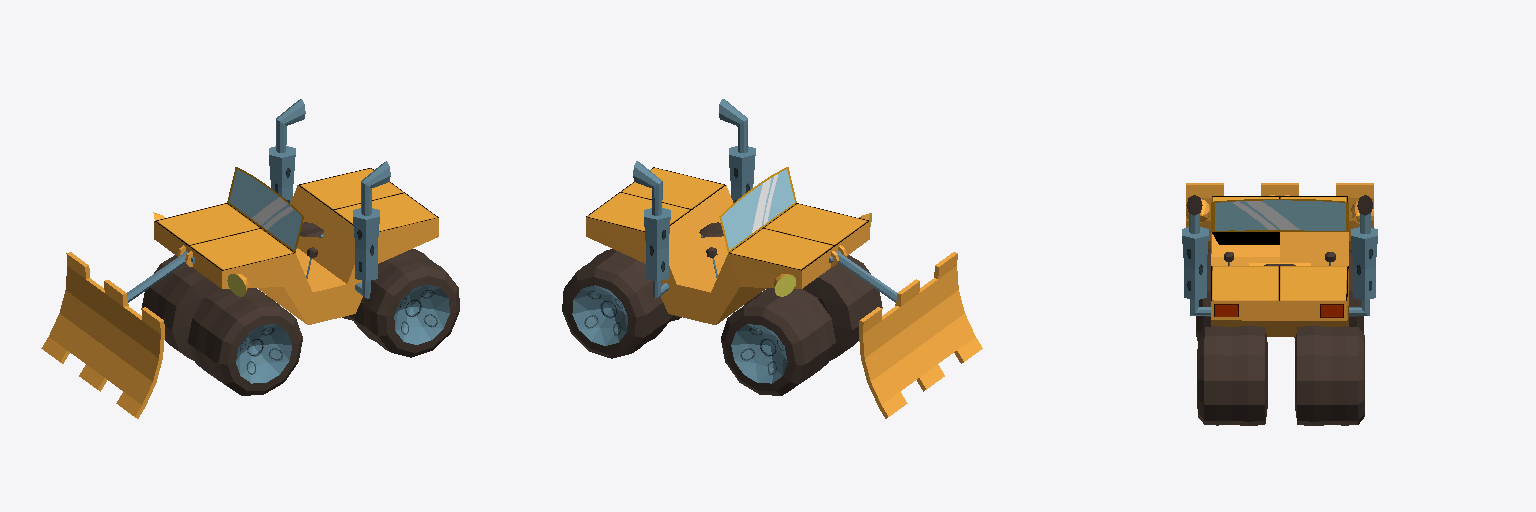
3 renders of one model, left to right at view 1: azimuth 30°, elevation 25°; view 2: azimuth 150°, elevation 25°; view 3: azimuth 270°, elevation 25°, orthographic.
Visible parts, largest first — view 1: mesh0020; view 2: mesh0020; view 3: mesh0020.
Part boxes in pixels (left/top/right/bottom): mesh0020: left=41, top=99, right=459, bottom=418; mesh0020: left=562, top=99, right=982, bottom=418; mesh0020: left=1182, top=183, right=1377, bottom=425.
Size of the model in its own units: 26.8 by 15.93 by 13.55.
9 materials, 9 textured.